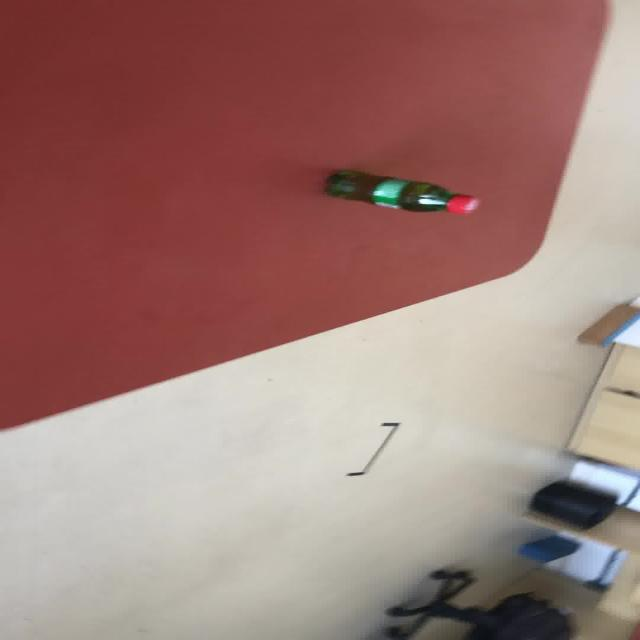guarana: (322, 168, 479, 214)
